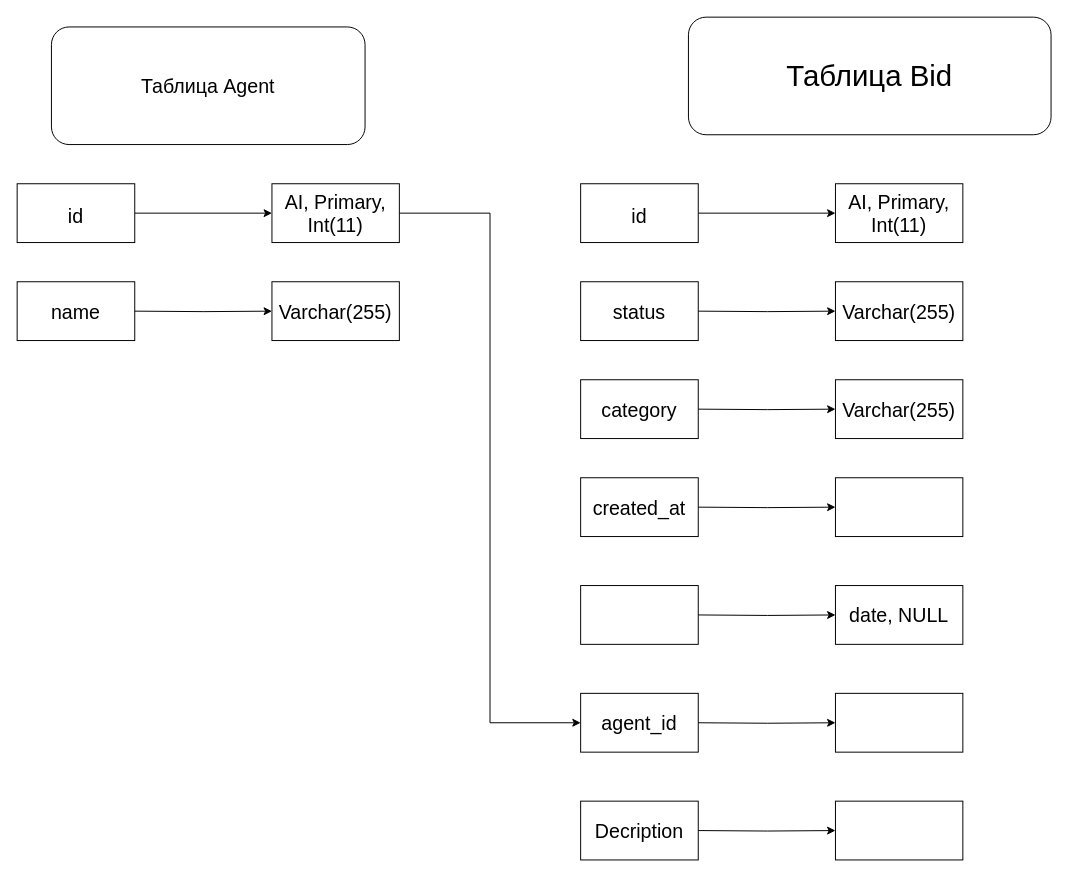
Image size: 1068x877. Some labels were removed from this diagram. The shapes that lost their labels are listed below. From the top down, each one's centre as x and y in pixels, then its label:
At point 898,507: "date".
At point 639,614: "decided_at".
At point 898,722: "Int(11)".
At point 898,830: "Text".
